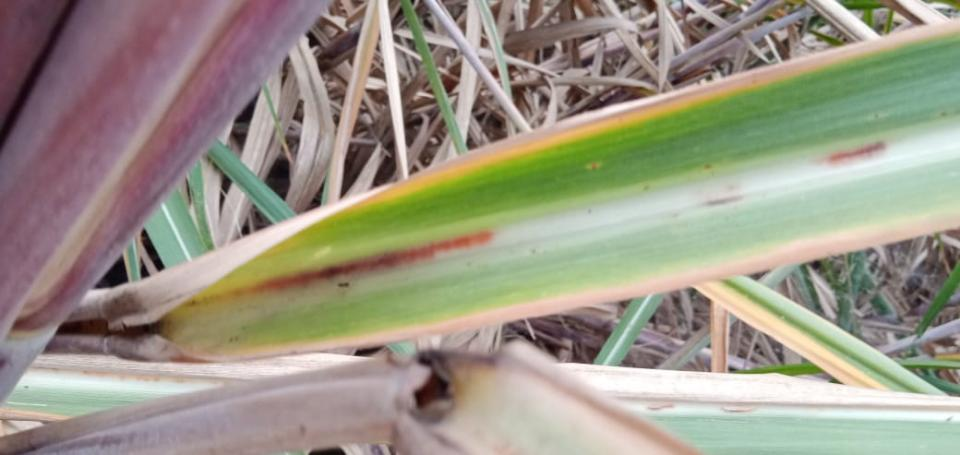RedRot: (203, 230, 503, 301), (824, 137, 890, 164), (719, 182, 741, 193)
Yellow: (285, 20, 959, 241), (221, 208, 959, 356)
